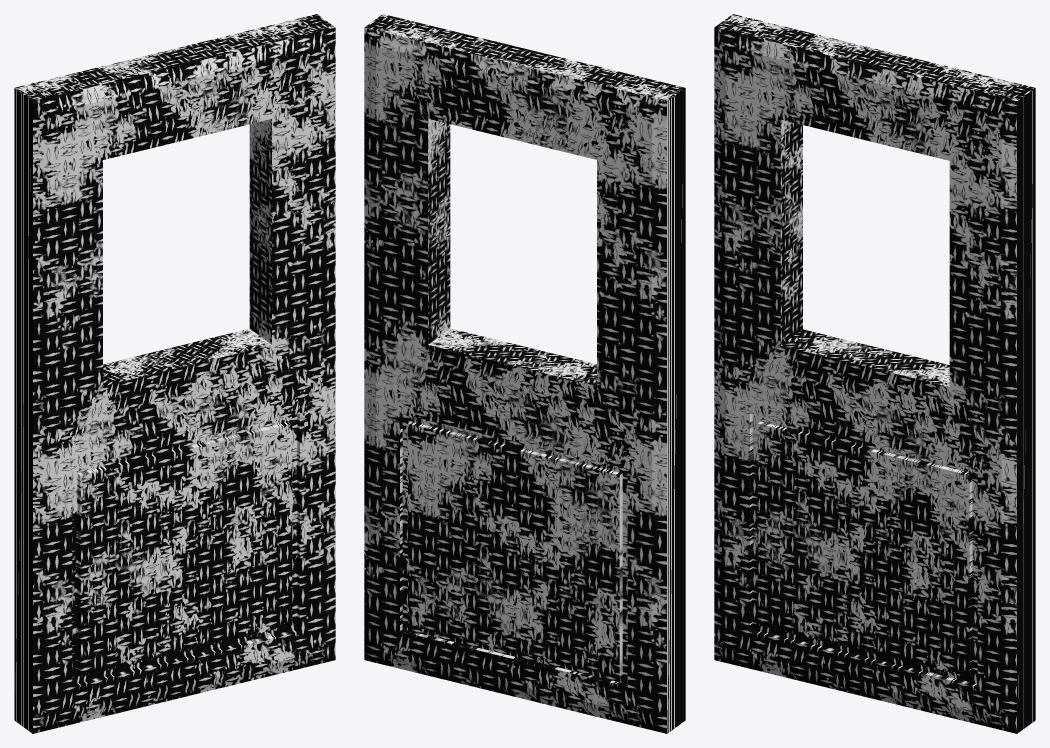
File: Puerta.fbx
3 views of the same model, side by side, from view 1: azimuth 30°, elevation 25°; view 2: azimuth 150°, elevation 25°; view 3: azimuth 330°, elevation 25° (orthographic).
Visible parts, largest first — view 1: Box131; view 2: Box131; view 3: Box131.
Boxes of the visible parts, <box> form: Box131: <box>14,14,335,733</box>; Box131: <box>364,14,685,733</box>; Box131: <box>714,14,1035,733</box>.
Bounding box in the file's own units: 235 × 470 × 30.16.
